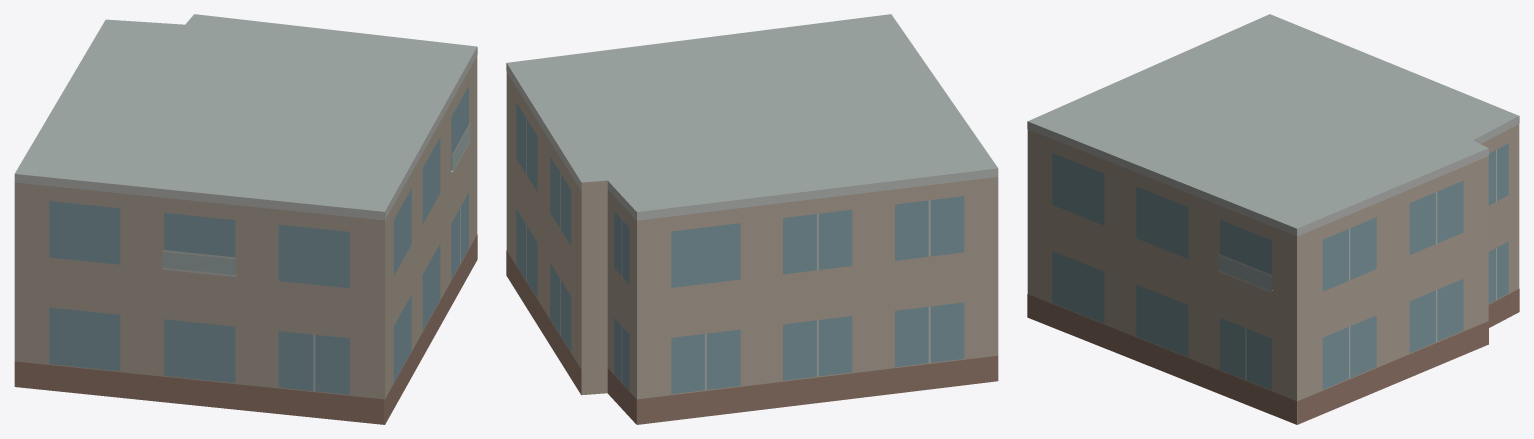
The model's file is survey-upis-32850801.glb.
The picture shows the model from 3 angles, left to right: view 1: azimuth 30°, elevation 25°; view 2: azimuth 150°, elevation 25°; view 3: azimuth 270°, elevation 25°; orthographic projection. The views are drawn at different scales.
Parts seen in each view (by area): view 1: survey-upis-32850801.tmp; view 2: survey-upis-32850801.tmp; view 3: survey-upis-32850801.tmp.
Part boxes in pixels (x1,y1,x2,y2): survey-upis-32850801.tmp: (14,14,477,424); survey-upis-32850801.tmp: (506,14,998,424); survey-upis-32850801.tmp: (1027,14,1519,424).
Size of the model in its own units: 14.33 by 6.1 by 13.87.
